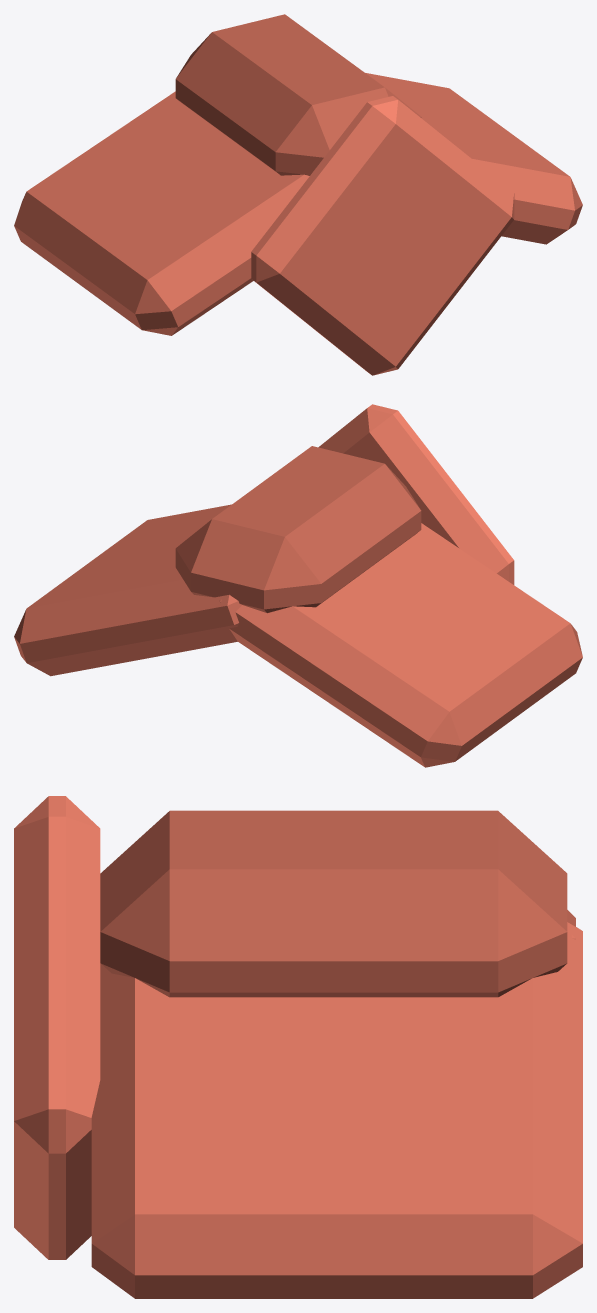
The model's file is roof_end_cap.glb.
The picture shows the model from 3 angles, top to bottom: view 1: azimuth 30°, elevation 25°; view 2: azimuth 150°, elevation 25°; view 3: azimuth 270°, elevation 25°; orthographic projection. The views are drawn at different scales.
Visible parts, largest first — view 1: roof_end_cap; view 2: roof_end_cap; view 3: roof_end_cap.
Boxes of the visible parts, x1=… form: roof_end_cap: x1=14, y1=14, x2=582, y2=375; roof_end_cap: x1=14, y1=404, x2=582, y2=767; roof_end_cap: x1=14, y1=796, x2=582, y2=1298.
Size of the model in its own units: 0.4915 by 0.2828 by 0.329.
